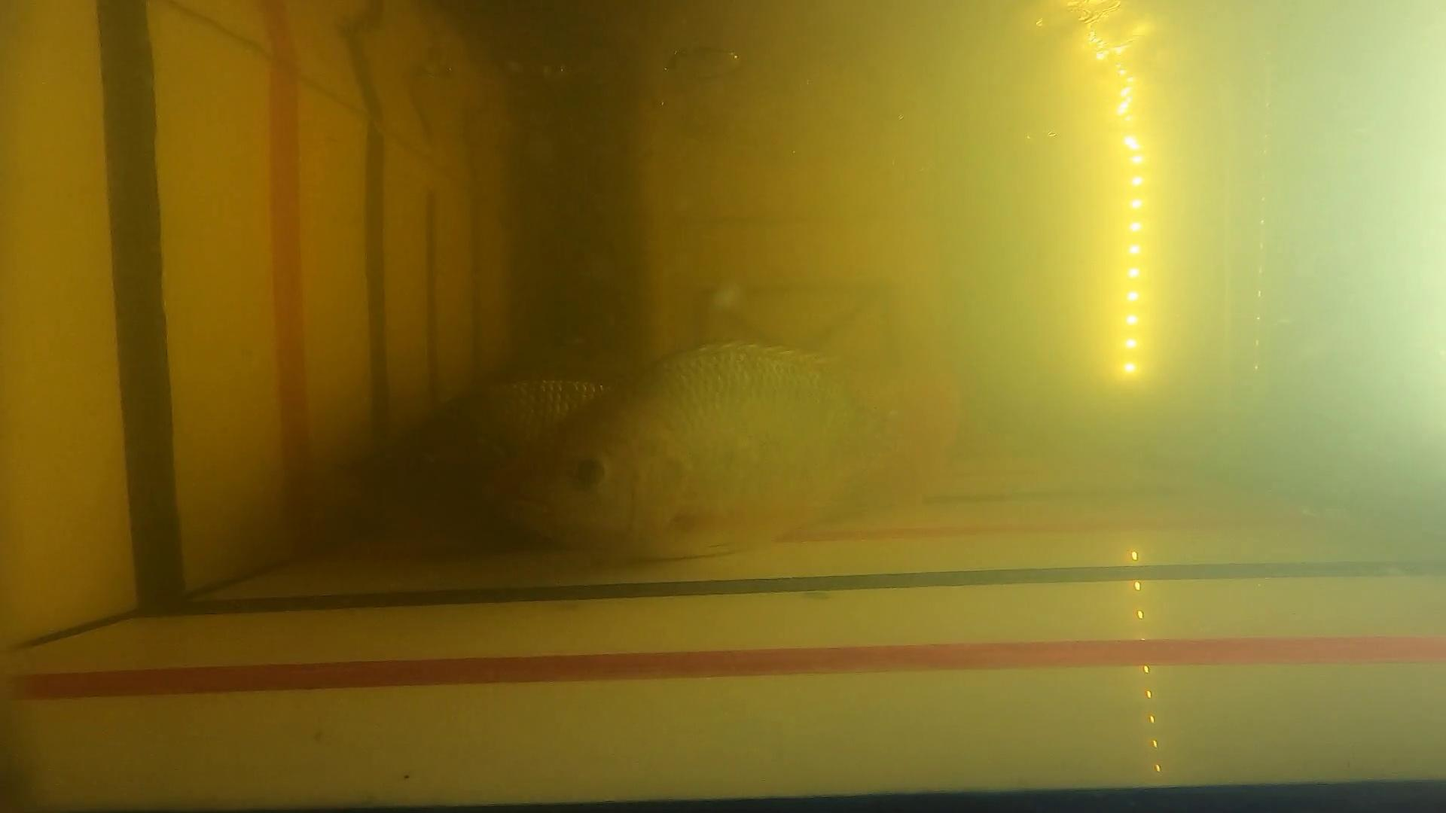Tilapia: (511, 340, 948, 561)
